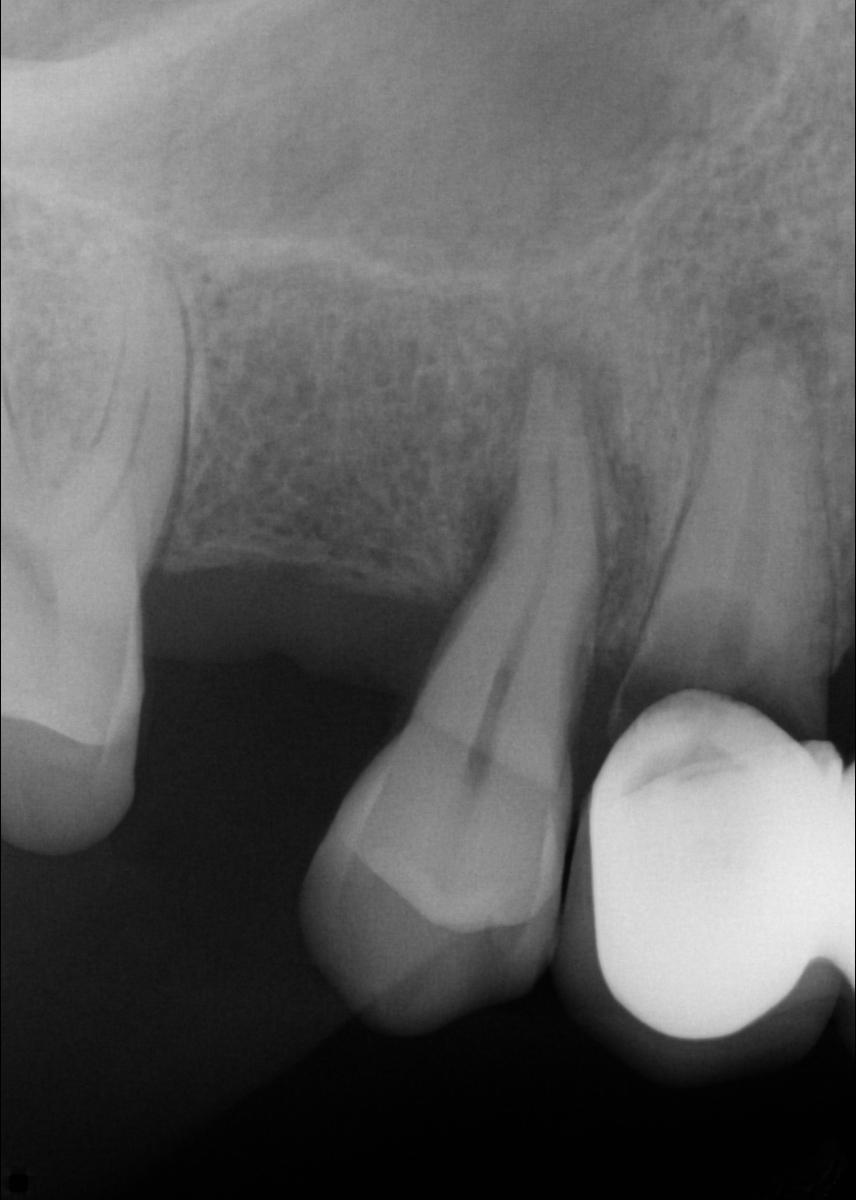Dental Caries: (507, 329, 656, 664), (465, 462, 519, 583)
Furcation Involvement: (702, 260, 832, 413)
